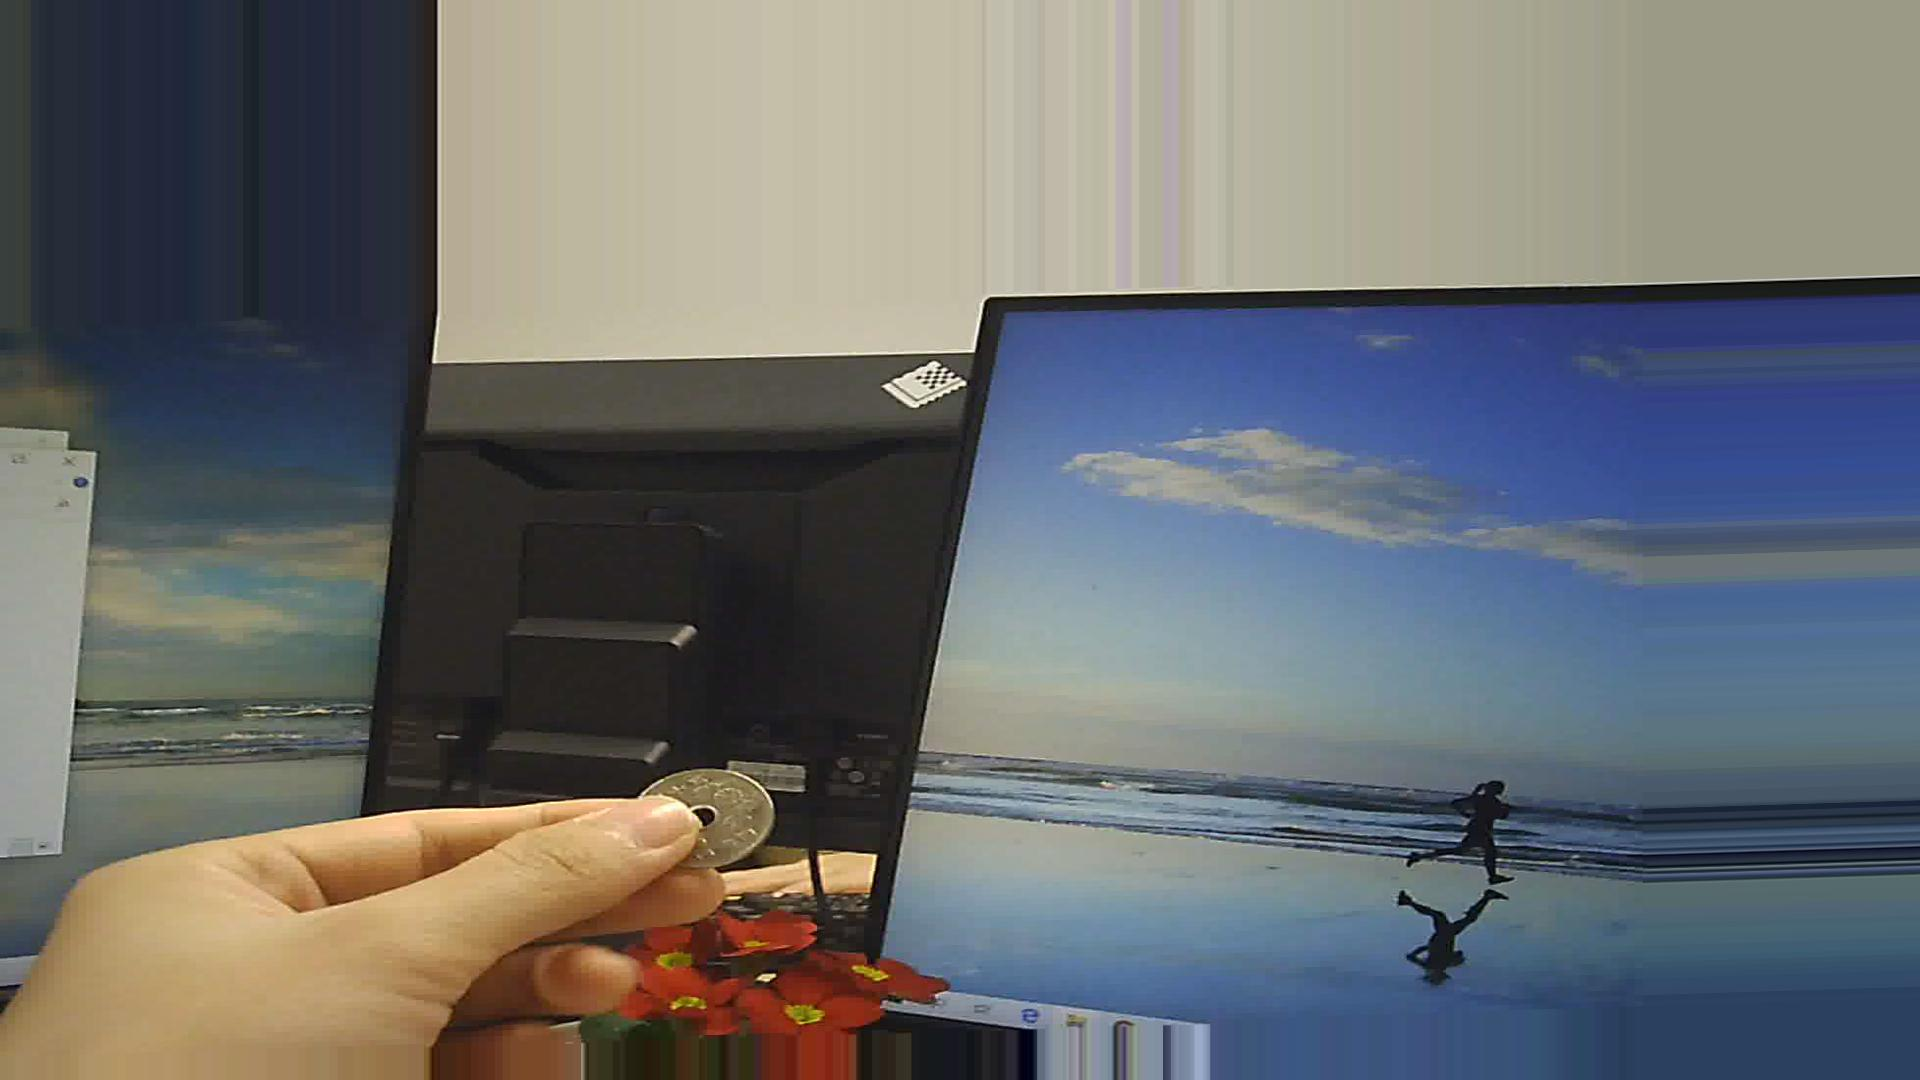50 Yen: (629, 760, 789, 866)
